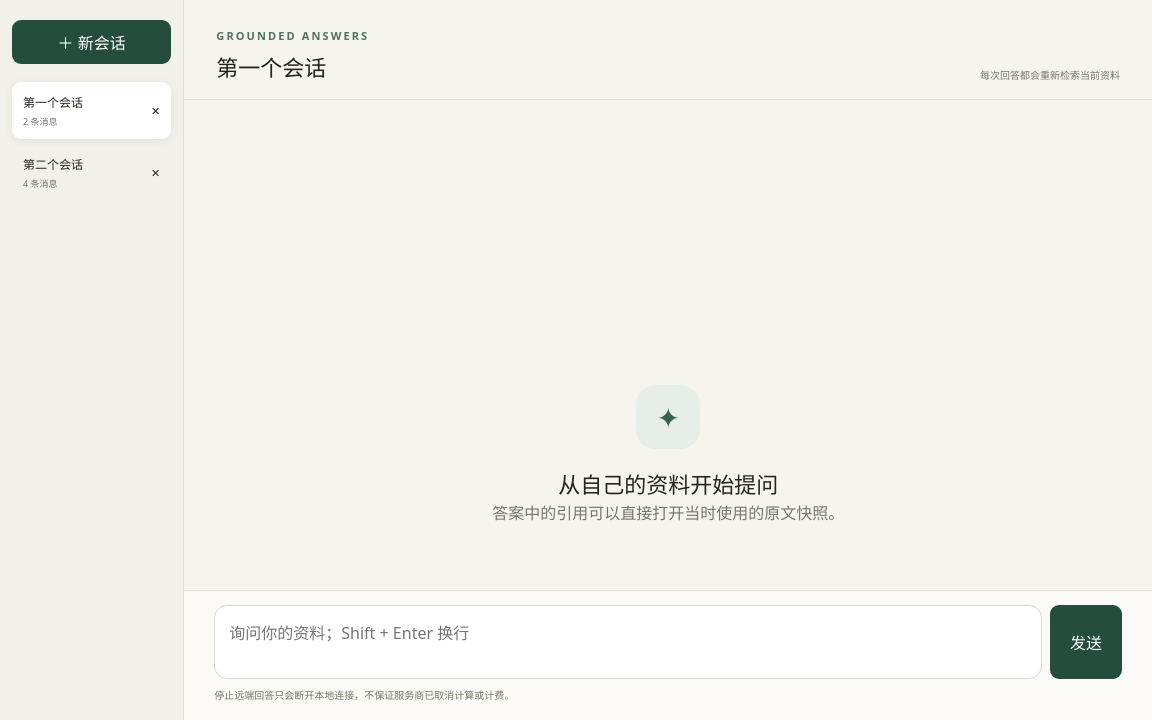
Test: ChatPage conversation deletion › moves to another conversation when the open one is deleted
Expected: the heading "第一个会话" is shown, left=216, top=52, right=326, bottom=82
Step 1. Click the button named "删除会话 第一个会话" → x=156, y=110, box left=140, top=94, right=171, bottom=127
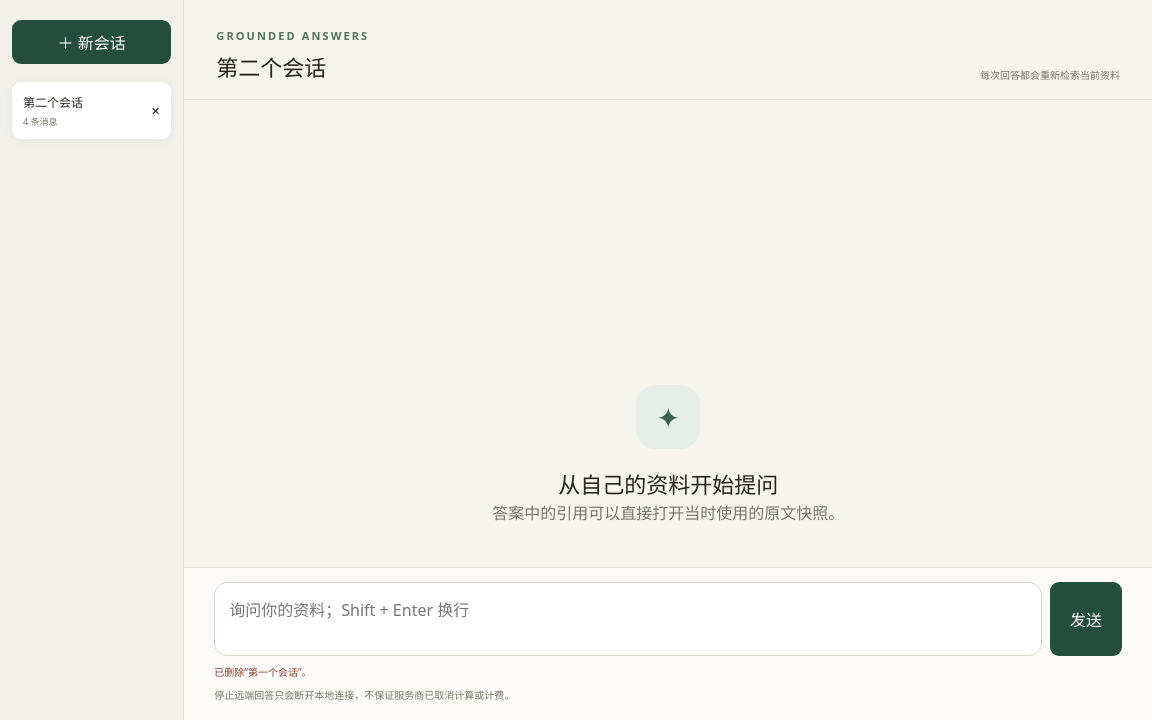
Expected: the heading "第二个会话" is shown, left=216, top=52, right=326, bottom=82
